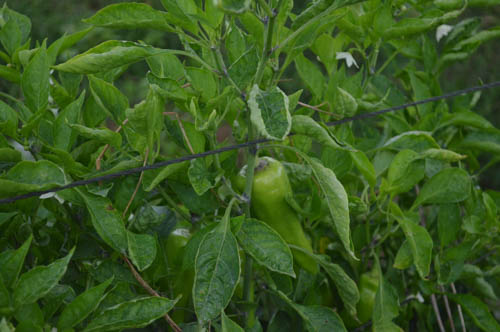ChiliPepper: (241, 160, 317, 267)
